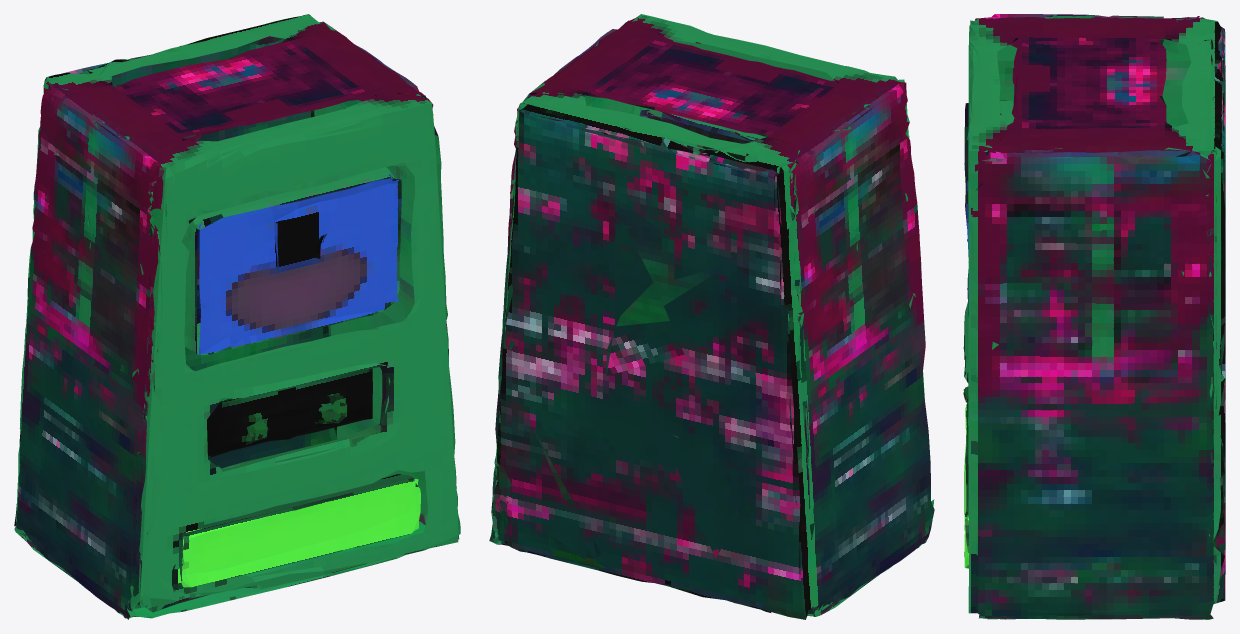
The model's file is Arcade_PotionPour_QuadRetro.glb.
3 views of the same model, side by side, from view 1: azimuth 30°, elevation 25°; view 2: azimuth 150°, elevation 25°; view 3: azimuth 270°, elevation 25° (orthographic).
Parts seen in each view (by area): view 1: Arcade_PotionPour_QuadRemesh; view 2: Arcade_PotionPour_QuadRemesh; view 3: Arcade_PotionPour_QuadRemesh.
Boxes of the visible parts, left/top/right/bottom form: Arcade_PotionPour_QuadRemesh: left=14, top=14, right=460, bottom=619; Arcade_PotionPour_QuadRemesh: left=489, top=14, right=934, bottom=619; Arcade_PotionPour_QuadRemesh: left=963, top=14, right=1225, bottom=619.
Size of the model in its own units: 1.52 by 2 by 1.03.
1 material, 1 textured.
